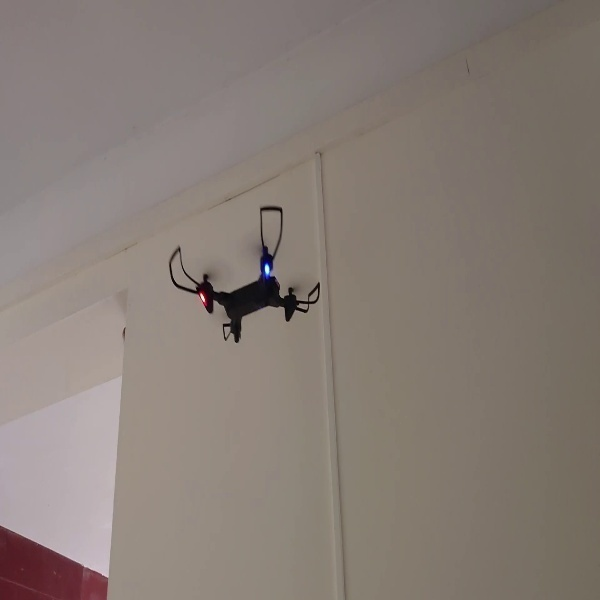drone: (166, 203, 323, 349)
